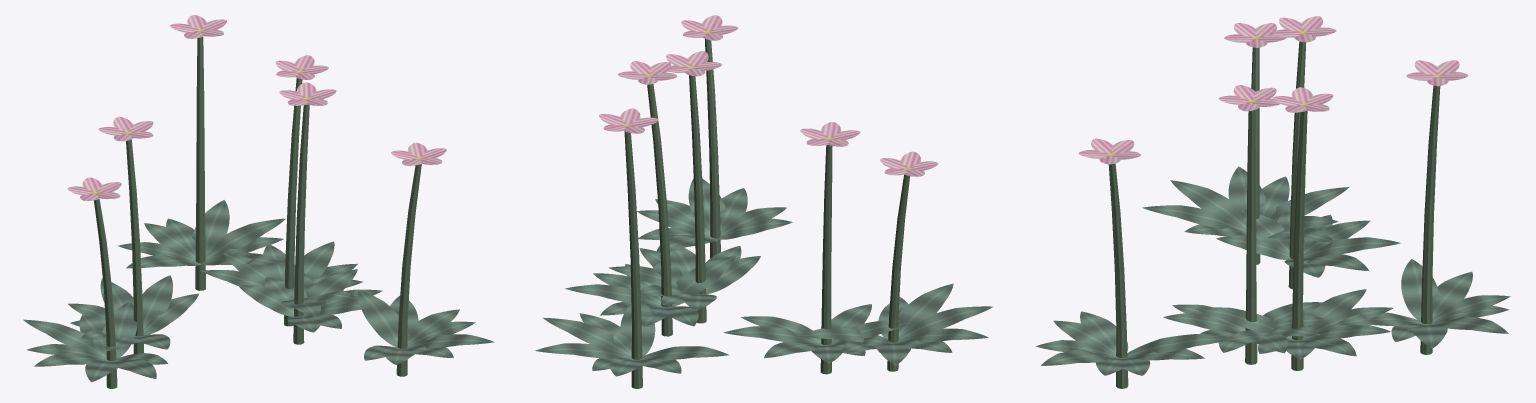
File: frost_saxifrage_v02.fbx
The picture shows the model from 3 angles, left to right: view 1: azimuth 30°, elevation 25°; view 2: azimuth 150°, elevation 25°; view 3: azimuth 270°, elevation 25°; orthographic projection. The views are drawn at different scales.
Parts seen in each view (by area): view 1: frost_saxifrage_v02; view 2: frost_saxifrage_v02; view 3: frost_saxifrage_v02.
Boxes of the visible parts, x1,y1,x2,y2 form: frost_saxifrage_v02: [23, 15, 494, 388]; frost_saxifrage_v02: [535, 15, 993, 388]; frost_saxifrage_v02: [1035, 16, 1510, 388].
Bounding box in the file's own units: 15.54 × 15.57 × 9.84.
Materials: 3 (3 with a texture image).
